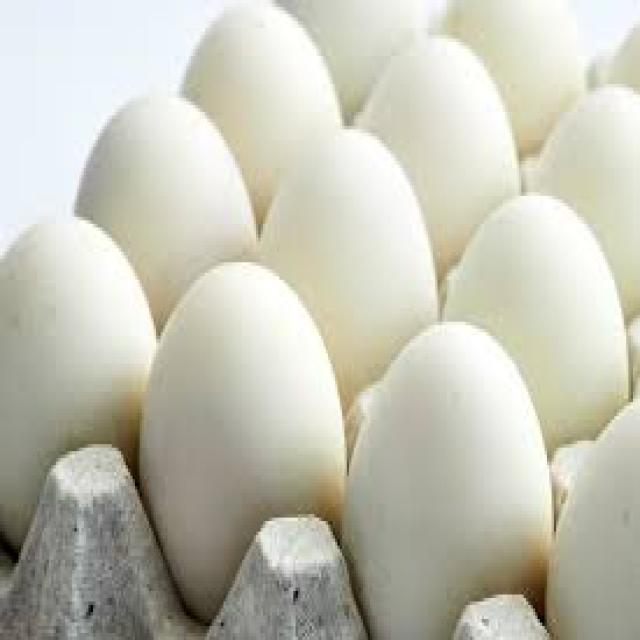White Egg: (126, 256, 346, 628), (349, 311, 549, 640), (252, 122, 455, 413), (0, 212, 153, 575), (452, 182, 632, 474), (67, 92, 269, 332)
